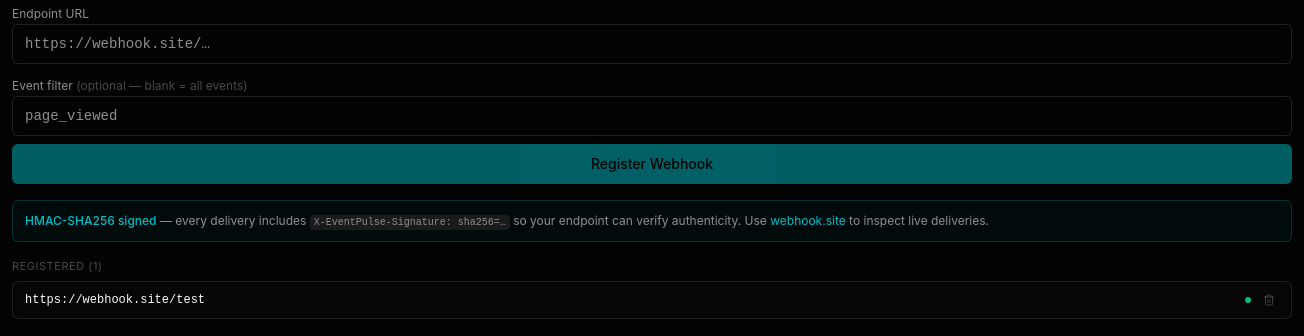
Test case: WebhookPanel › removes webhook from list on delete
Expected: the text "https://webhook.site/test" is shown, [25,293,205,307]
Click the button named "Delete webhook" at coordinates (1269, 300), box [1259,290,1279,310]
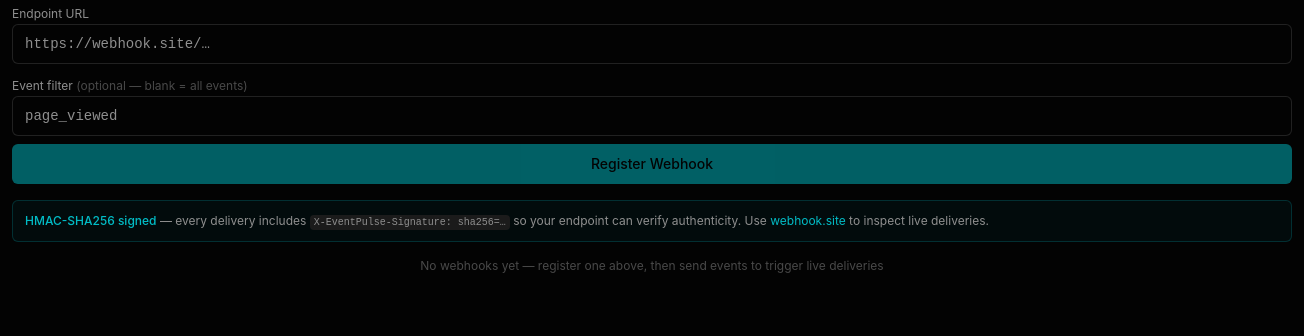
Now the text "https://webhook.site/test" is gone
